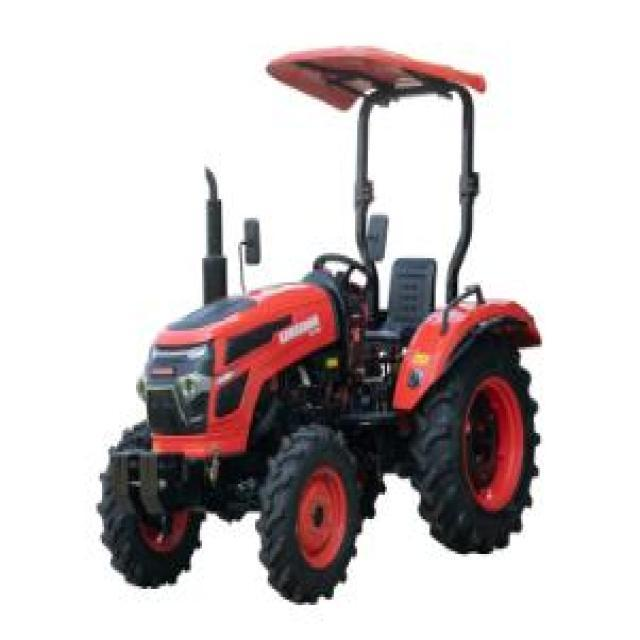Tratores - v5 YOLO V8L 2024-11-13: (95, 49, 530, 606)
